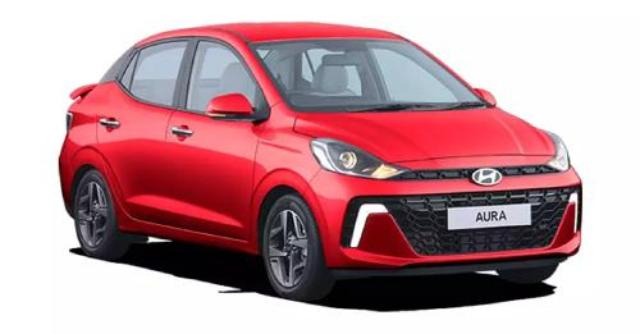hyundai: (59, 22, 584, 300)
